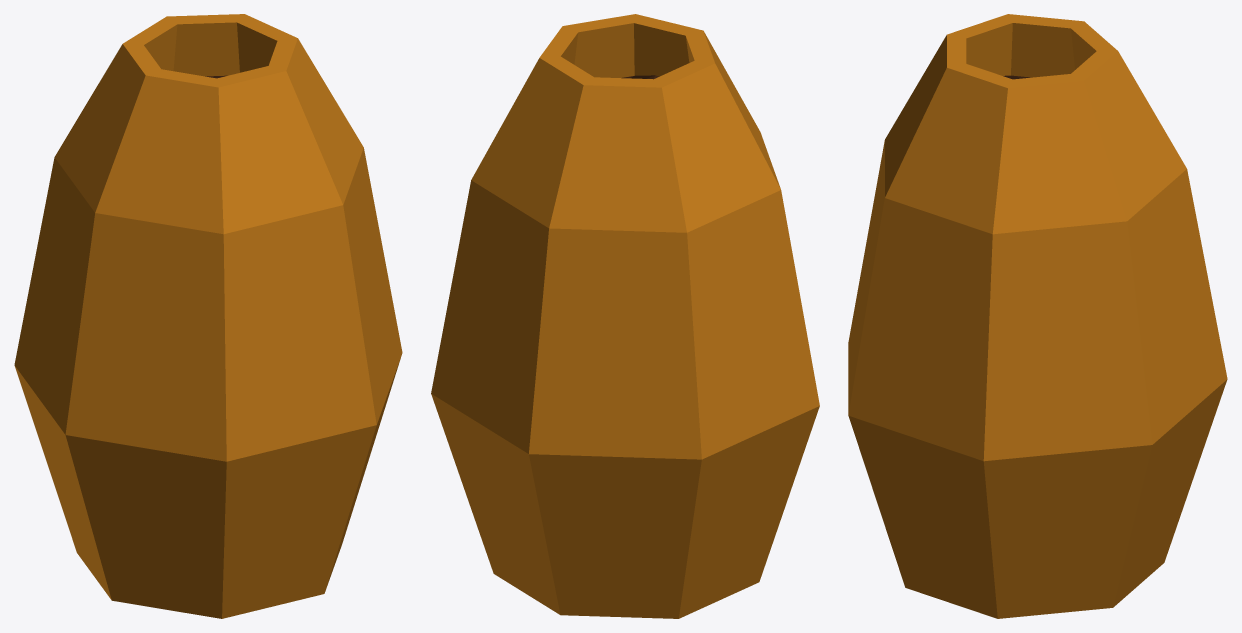
The model's file is LargeVase.glb.
3 views of the same model, side by side, from view 1: azimuth 30°, elevation 25°; view 2: azimuth 150°, elevation 25°; view 3: azimuth 270°, elevation 25° (orthographic).
Visible parts, largest first — view 1: LargeVase; view 2: LargeVase; view 3: LargeVase.
Part boxes in pixels (left/top/right/bottom): LargeVase: left=14, top=14, right=402, bottom=618; LargeVase: left=431, top=14, right=819, bottom=618; LargeVase: left=848, top=14, right=1227, bottom=618.
Bounding box in the file's own units: 0.3389 × 0.492 × 0.3304.
